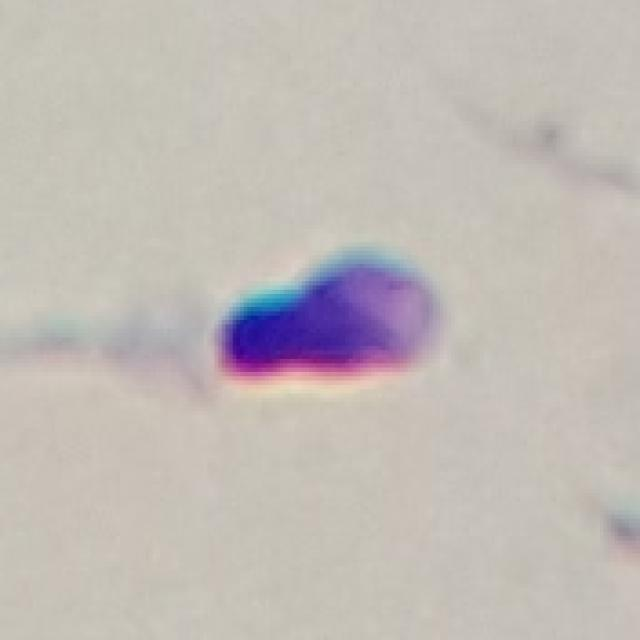abnormal sperm: (101, 248, 442, 389)
